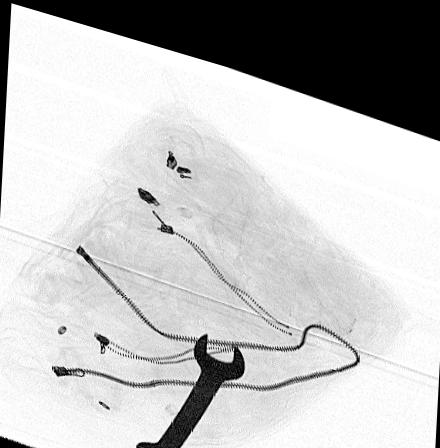Wrench: (136, 320, 245, 448)
